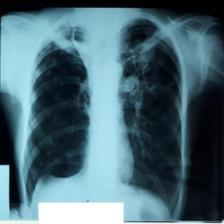tuberculosis: (22, 10, 184, 217)
